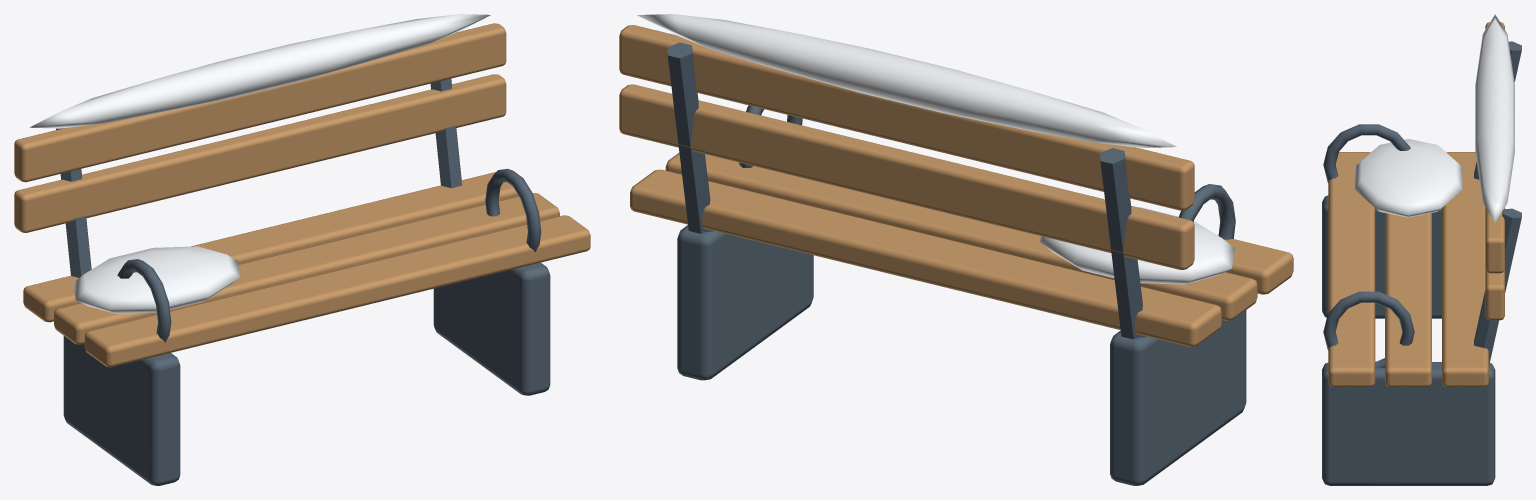
Rendered from alpine-snow-village-carved-village-bench-a1cea840__19806.glb.
3 views of the same model, side by side, from view 1: azimuth 30°, elevation 25°; view 2: azimuth 150°, elevation 25°; view 3: azimuth 270°, elevation 25° (orthographic). The views are drawn at different scales.
Visible parts, largest first — view 1: carved-village-bench-oak, carved-village-bench-iron, carved-village-bench-snow; view 2: carved-village-bench-oak, carved-village-bench-iron, carved-village-bench-snow; view 3: carved-village-bench-oak, carved-village-bench-iron, carved-village-bench-snow.
Boxes of the visible parts, box(x1,y1,x2,y2) form: carved-village-bench-oak: box(14, 23, 590, 367); carved-village-bench-iron: box(56, 78, 550, 485); carved-village-bench-snow: box(30, 14, 490, 313); carved-village-bench-oak: box(619, 25, 1293, 346); carved-village-bench-iron: box(667, 42, 1246, 485); carved-village-bench-snow: box(637, 14, 1234, 284); carved-village-bench-oak: box(1328, 22, 1504, 387); carved-village-bench-iron: box(1322, 41, 1521, 485); carved-village-bench-snow: box(1354, 14, 1514, 222).
Bounding box in the file's own units: 2.1 × 1.32 × 0.8083.
